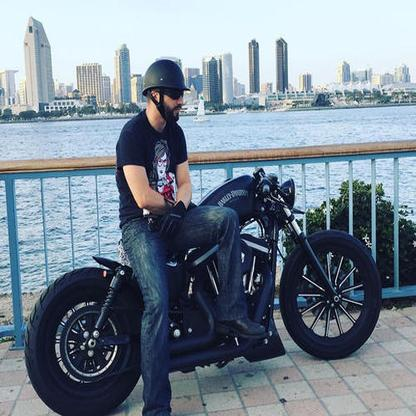target: (17, 57, 385, 411)
